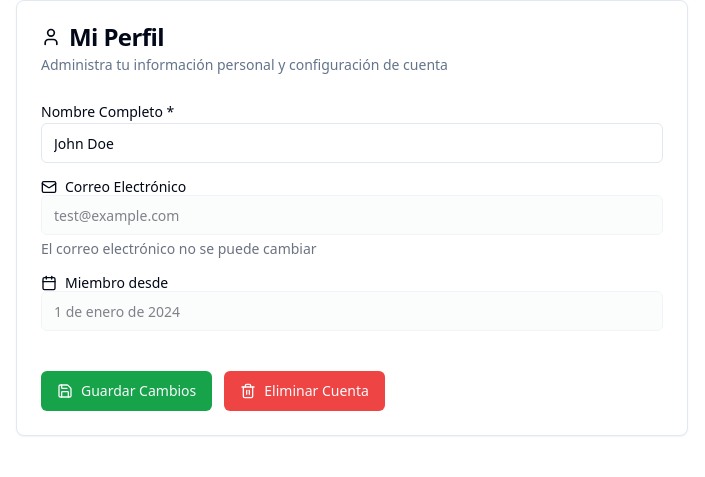
Test: CustomerProfilePage › validates required fields
// Clear the name field
Clear the field labelled "Nombre Completo *" at (352, 143), box x1=41 y1=123 x2=663 y2=163
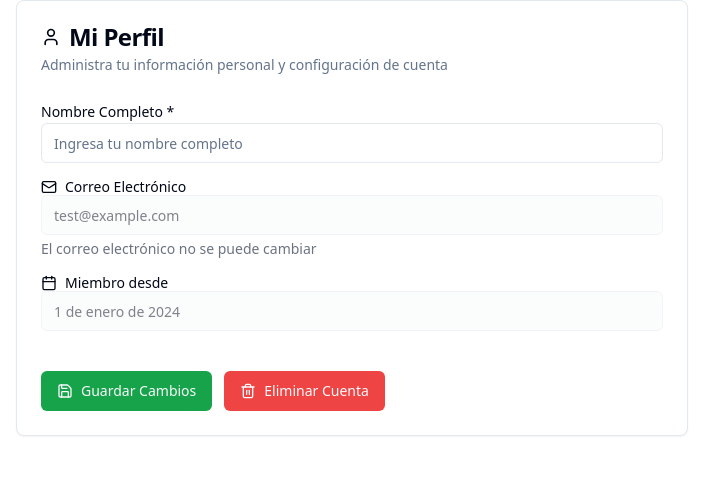
// Try to save
Click the button "Guardar Cambios" at (127, 391), box x1=41 y1=371 x2=212 y2=411
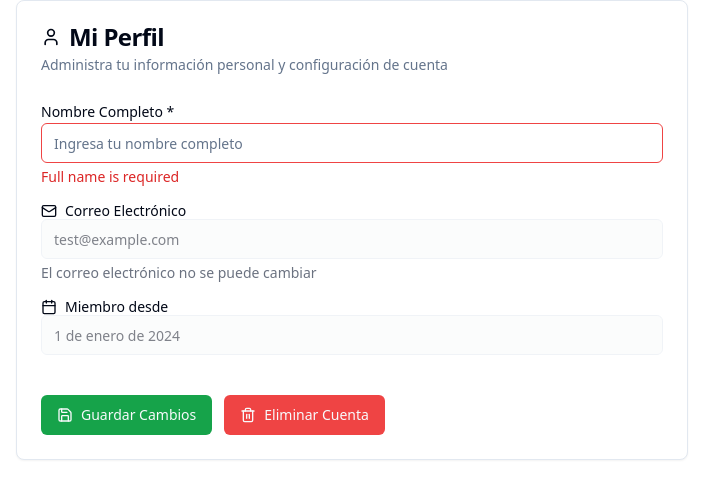
Check: the text "Full name is required" is shown, box x1=41 y1=167 x2=179 y2=186
